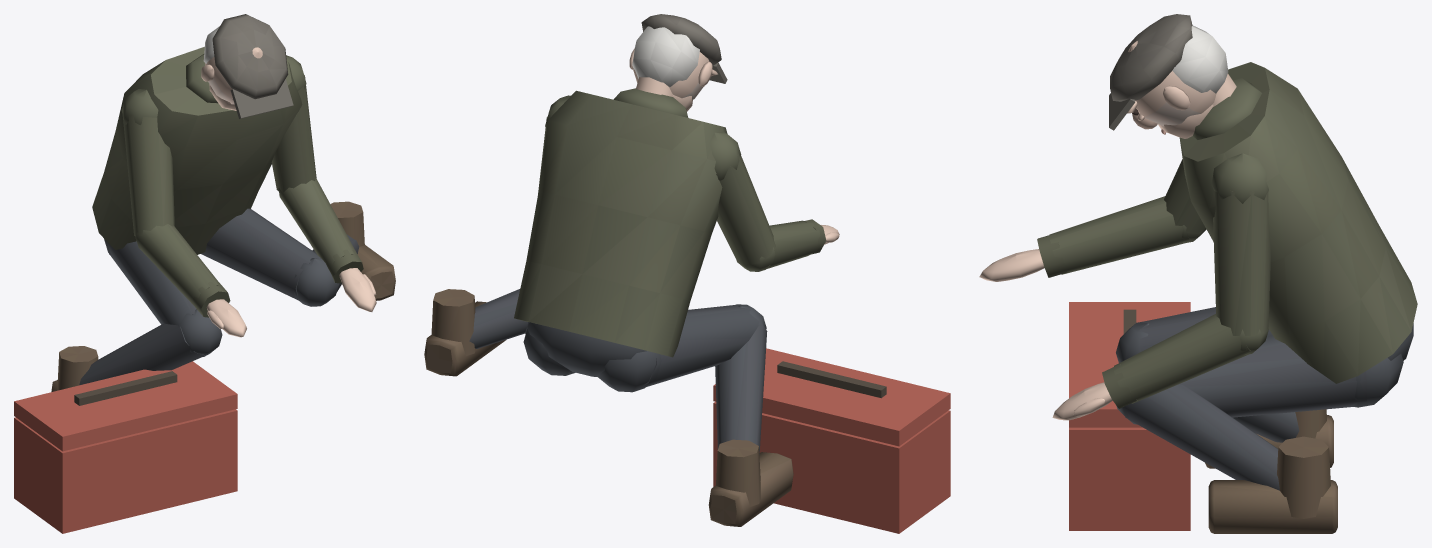
The model's file is ellis_toolbox_a_closed.glb.
The picture shows the model from 3 angles, left to right: view 1: azimuth 30°, elevation 25°; view 2: azimuth 150°, elevation 25°; view 3: azimuth 270°, elevation 25°; orthographic projection. The views are drawn at different scales.
Visible parts, largest first — view 1: body; view 2: body; view 3: body.
Part boxes in pixels (left/top/right/bottom): body: left=14, top=14, right=395, bottom=533; body: left=424, top=14, right=950, bottom=533; body: left=979, top=14, right=1417, bottom=533.
Size of the model in its own units: 1.13 by 1.17 by 0.8646.
